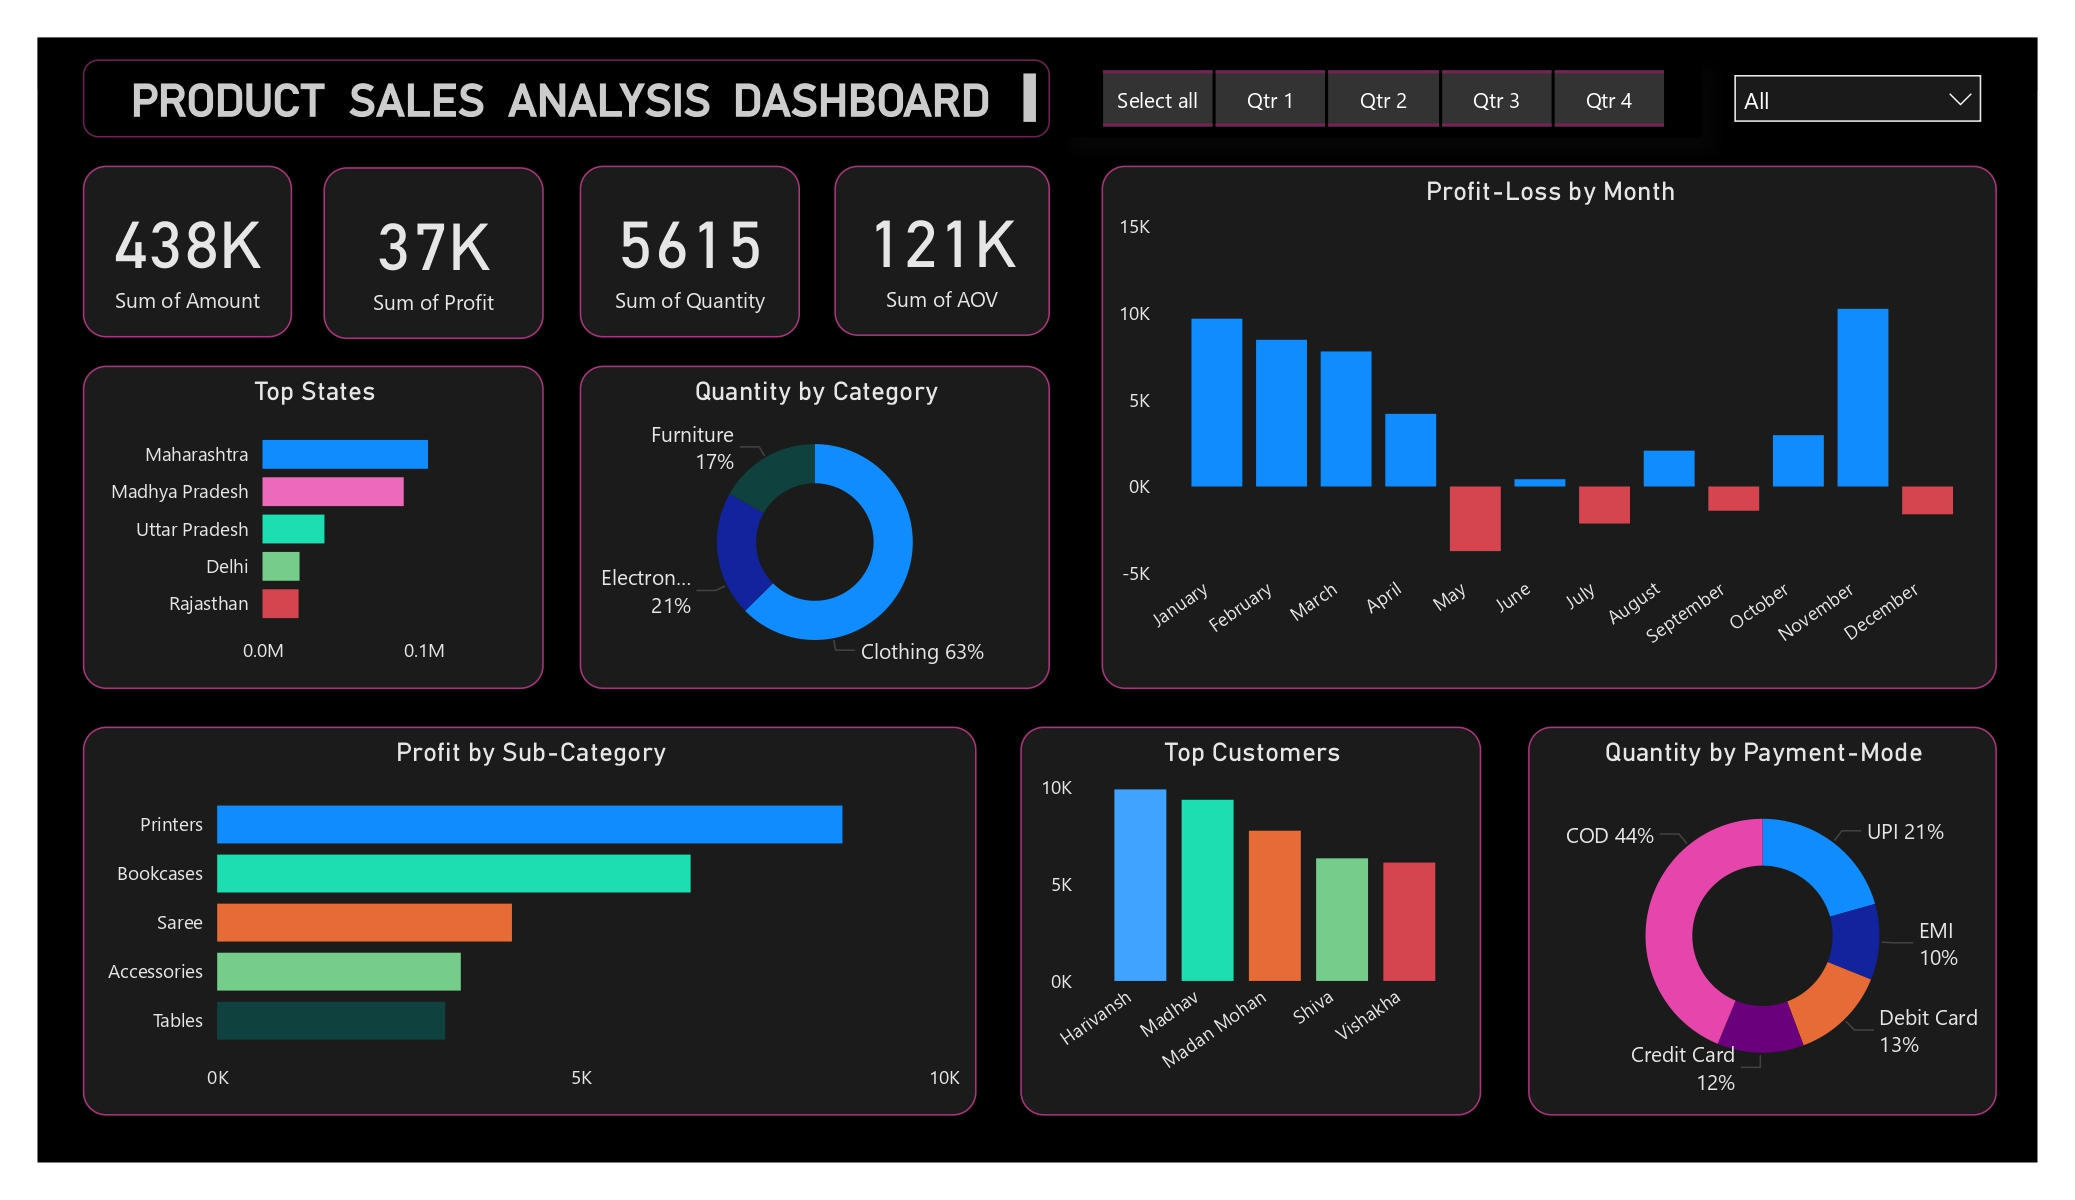

The page's visual inventory and layout, read from the dashboard file:
{"tool":"powerbi","page":{"name":"PRODUCT SALES ANALYSIS DASHBOARD","canvas":[1280,720],"ordinal":0},"visuals":[{"type":"columnChart","title":"Profit-Loss by Month","fields":{"Y":["Sum(Details.Profit)"],"Category":["Orders.Order Date.Variation.Date Hierarchy.Month"]},"box":[681.4,82,572.9,335.3],"z":0},{"type":"barChart","title":"Profit by Sub-Category","fields":{"Category":["Details.Sub-Category"],"Y":["Sum(Details.Profit)"]},"box":[28.6,441.4,572.9,248.6],"z":1000},{"type":"donutChart","title":"Quantity by Category","fields":{"Category":["Details.Category"],"Y":["Sum(Details.Quantity)"]},"box":[347.3,209.8,300.3,207.4],"z":2000},{"type":"donutChart","title":"Quantity by Payment-Mode","fields":{"Category":["Details.PaymentMode"],"Y":["Sum(Details.Quantity)"]},"box":[954.3,441.4,300,248.6],"z":3000},{"type":"card","fields":{"Values":["Sum(Details.Amount)"]},"box":[28.9,82,133.9,109.7],"z":4000},{"type":"card","fields":{"Values":["Sum(Details.Profit)"]},"box":[183.3,83.2,141.1,109.7],"z":5000},{"type":"card","fields":{"Values":["Sum(Details.Quantity)"]},"box":[347.3,82,141.1,109.7],"z":6000},{"type":"card","fields":{"Values":["Sum(Details.AOV)"]},"box":[510.2,82,137.5,108.5],"z":7000},{"type":"barChart","title":"Top States","fields":{"Category":["Orders.State"],"Y":["Sum(Details.Amount)"]},"box":[28.9,209.8,295.5,207.4],"z":8000},{"type":"columnChart","title":"Top Customers","fields":{"Category":["Orders.CustomerName"],"Y":["Sum(Details.Amount)"]},"box":[628.6,441.4,295.7,248.6],"z":9000},{"type":"slicer","fields":{"Values":["Orders.Order Date.Variation.Date Hierarchy.Quarter"]},"box":[656.1,14.5,408.8,49.4],"z":10000},{"type":"slicer","fields":{"Values":["Orders.State"]},"box":[1075.8,14.5,178.5,49.4],"z":11000},{"type":"textbox","box":[28.9,14.5,618.7,49.4],"z":12000}]}

Visuals, with their boxes on the page's 1280x720 design canvas (x1, y1, x2, y2). These are canvas units, not pixel positions in the 2075x1200 screenshot, which may show the page scaled, cropped or inside an application window:
"Profit-Loss by Month" columnChart: l=681, t=82, r=1254, b=417
"Profit by Sub-Category" barChart: l=29, t=441, r=602, b=690
"Quantity by Category" donutChart: l=347, t=210, r=648, b=417
"Quantity by Payment-Mode" donutChart: l=954, t=441, r=1254, b=690
card - Sum(Details.Amount): l=29, t=82, r=163, b=192
card - Sum(Details.Profit): l=183, t=83, r=324, b=193
card - Sum(Details.Quantity): l=347, t=82, r=488, b=192
card - Sum(Details.AOV): l=510, t=82, r=648, b=190
"Top States" barChart: l=29, t=210, r=324, b=417
"Top Customers" columnChart: l=629, t=441, r=924, b=690
slicer - Orders.Order Date.Variation.Date Hierarchy.Quarter: l=656, t=14, r=1065, b=64
slicer - Orders.State: l=1076, t=14, r=1254, b=64
textbox: l=29, t=14, r=648, b=64
